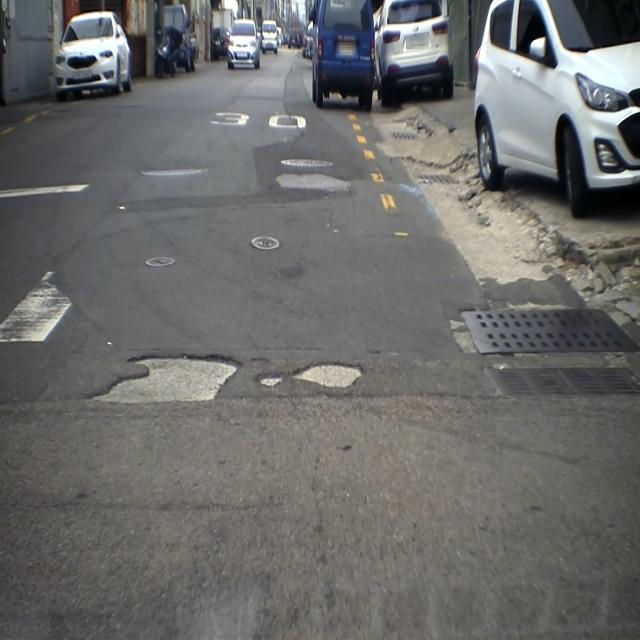Pothole: (78, 345, 252, 411), (286, 355, 368, 398), (255, 368, 285, 396)
